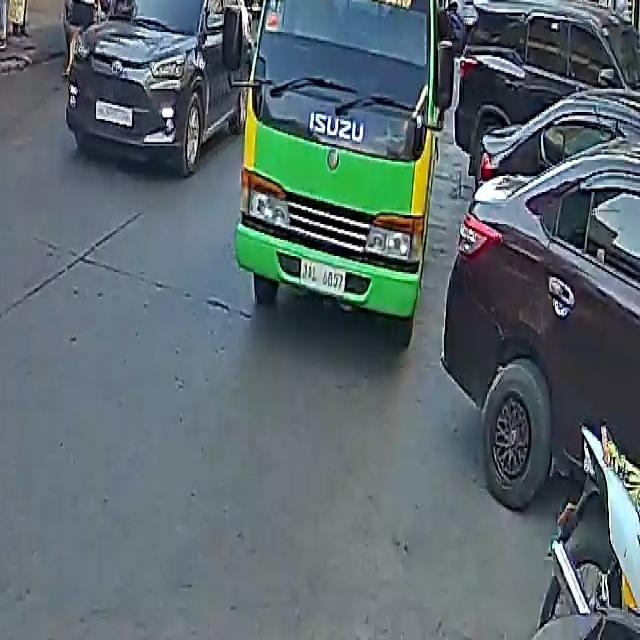car: (441, 80, 640, 524), (62, 0, 250, 176), (454, 0, 640, 176), (74, 0, 201, 27)
